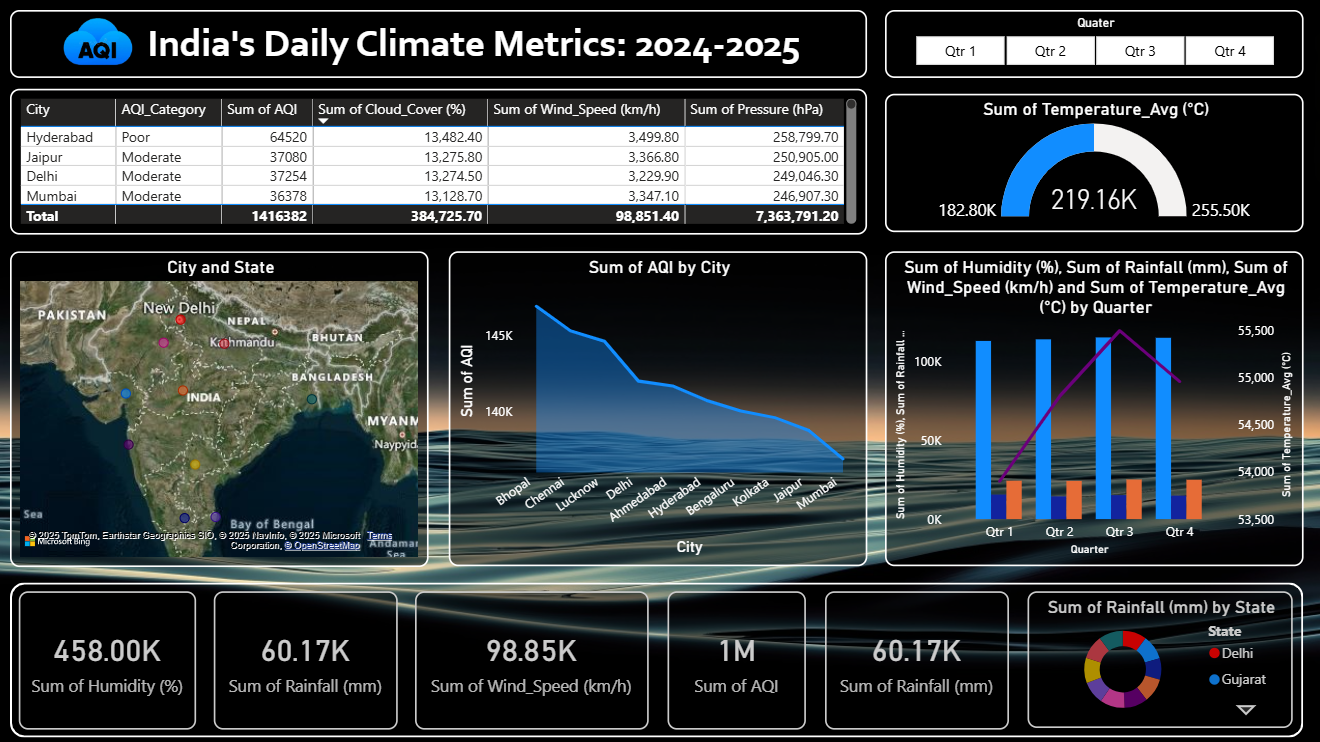

The page's visual inventory and layout, read from the dashboard file:
{"tool":"powerbi","page":{"name":"Page 1","canvas":[1280,720],"ordinal":0},"visuals":[{"type":"map","fields":{"Category":["Indian_Climate_Dataset_2024_2025.City"],"Series":["Indian_Climate_Dataset_2024_2025.State"]},"box":[14.5,242.7,404,305.2],"z":0},{"type":"card","fields":{"Values":["Sum(Indian_Climate_Dataset_2024_2025.Humidity (%))"]},"box":[23.3,571.1,171.5,133.7],"z":1000},{"type":"card","fields":{"Values":["Sum(Indian_Climate_Dataset_2024_2025.Rainfall (mm))"]},"box":[210.7,571.1,177.3,133.7],"z":2000},{"type":"lineClusteredColumnComboChart","fields":{"Category":["Indian_Climate_Dataset_2024_2025.Date.Variation.Date Hierarchy.Quarter"],"Y":["Sum(Indian_Climate_Dataset_2024_2025.Humidity (%))","Sum(Indian_Climate_Dataset_2024_2025.Rainfall (mm))","Sum(Indian_Climate_Dataset_2024_2025.Wind_Speed (km/h))"],"Y2":["Sum(Indian_Climate_Dataset_2024_2025.Temperature_Avg (°C))"]},"box":[858.9,242.7,404,303.7],"z":3000},{"type":"areaChart","fields":{"Category":["Indian_Climate_Dataset_2024_2025.City"],"Y":["Sum(Indian_Climate_Dataset_2024_2025.AQI)"]},"box":[437.4,242.7,404,303.7],"z":4000},{"type":"gauge","title":"Sum of Temperature_Avg (°C)","fields":{"Y":["Sum(Indian_Climate_Dataset_2024_2025.Temperature_Avg (°C))"],"MinValue":["Sum(Indian_Climate_Dataset_2024_2025.Temperature_Min (°C))"],"MaxValue":["Sum(Indian_Climate_Dataset_2024_2025.Temperature_Max (°C))"]},"box":[858.9,90.1,404,133.7],"z":5000},{"type":"card","fields":{"Values":["Sum(Indian_Climate_Dataset_2024_2025.Wind_Speed (km/h))"]},"box":[405.5,571.1,225.3,133.7],"z":6000},{"type":"card","fields":{"Values":["Sum(Indian_Climate_Dataset_2024_2025.AQI)"]},"box":[649.6,571.1,133.7,133.7],"z":7000},{"type":"card","fields":{"Values":["Sum(Indian_Climate_Dataset_2024_2025.Rainfall (mm))"]},"box":[800.7,571.1,177.3,133.7],"z":8000},{"type":"tableEx","fields":{"Values":["Indian_Climate_Dataset_2024_2025.City","Indian_Climate_Dataset_2024_2025.AQI_Category","Sum(Indian_Climate_Dataset_2024_2025.AQI)","Sum(Indian_Climate_Dataset_2024_2025.Cloud_Cover (%))","Sum(Indian_Climate_Dataset_2024_2025.Wind_Speed (km/h))","Sum(Indian_Climate_Dataset_2024_2025.Pressure (hPa))"]},"box":[14.5,85.7,826.9,141],"z":9000},{"type":"donutChart","fields":{"Y":["Sum(Indian_Climate_Dataset_2024_2025.Rainfall (mm))"],"Series":["Indian_Climate_Dataset_2024_2025.State"]},"box":[996.9,571.1,255.8,132.2],"z":9001},{"type":"slicer","title":"Quater","fields":{"Values":["Indian_Climate_Dataset_2024_2025.Date.Variation.Date Hierarchy.Quarter"]},"box":[858.9,10.2,404,65.4],"z":9002},{"type":"textbox","box":[14.5,10.2,826.9,65.4],"z":9003},{"type":"image","box":[14.5,2.9,170,75.6],"z":9004},{"type":"shape","box":[14.5,562.4,1248.3,149.7],"z":9005}]}

Visuals, with their boxes in screenshot pixels (x1, y1, x2, y2), scaled from the page's 1280x720 canvas onto the 1320x742 screenshot:
map - Indian_Climate_Dataset_2024_2025.City x Indian_Climate_Dataset_2024_2025.State: crop(15, 250, 432, 565)
card - Sum(Indian_Climate_Dataset_2024_2025.Humidity (%)): crop(24, 589, 201, 726)
card - Sum(Indian_Climate_Dataset_2024_2025.Rainfall (mm)): crop(217, 589, 400, 726)
lineClusteredColumnComboChart - Indian_Climate_Dataset_2024_2025.Date.Variation.Date Hierarchy.Quarter x Sum(Indian_Climate_Dataset_2024_2025.Humidity (%)): crop(886, 250, 1302, 563)
areaChart - Indian_Climate_Dataset_2024_2025.City x Sum(Indian_Climate_Dataset_2024_2025.AQI): crop(451, 250, 868, 563)
"Sum of Temperature_Avg (°C)" gauge: crop(886, 93, 1302, 231)
card - Sum(Indian_Climate_Dataset_2024_2025.Wind_Speed (km/h)): crop(418, 589, 651, 726)
card - Sum(Indian_Climate_Dataset_2024_2025.AQI): crop(670, 589, 808, 726)
card - Sum(Indian_Climate_Dataset_2024_2025.Rainfall (mm)): crop(826, 589, 1009, 726)
tableEx - Indian_Climate_Dataset_2024_2025.City x Indian_Climate_Dataset_2024_2025.AQI_Category: crop(15, 88, 868, 234)
donutChart - Sum(Indian_Climate_Dataset_2024_2025.Rainfall (mm)) x Indian_Climate_Dataset_2024_2025.State: crop(1028, 589, 1292, 725)
"Quater" slicer: crop(886, 11, 1302, 78)
textbox: crop(15, 11, 868, 78)
image: crop(15, 3, 190, 81)
shape: crop(15, 580, 1302, 734)
